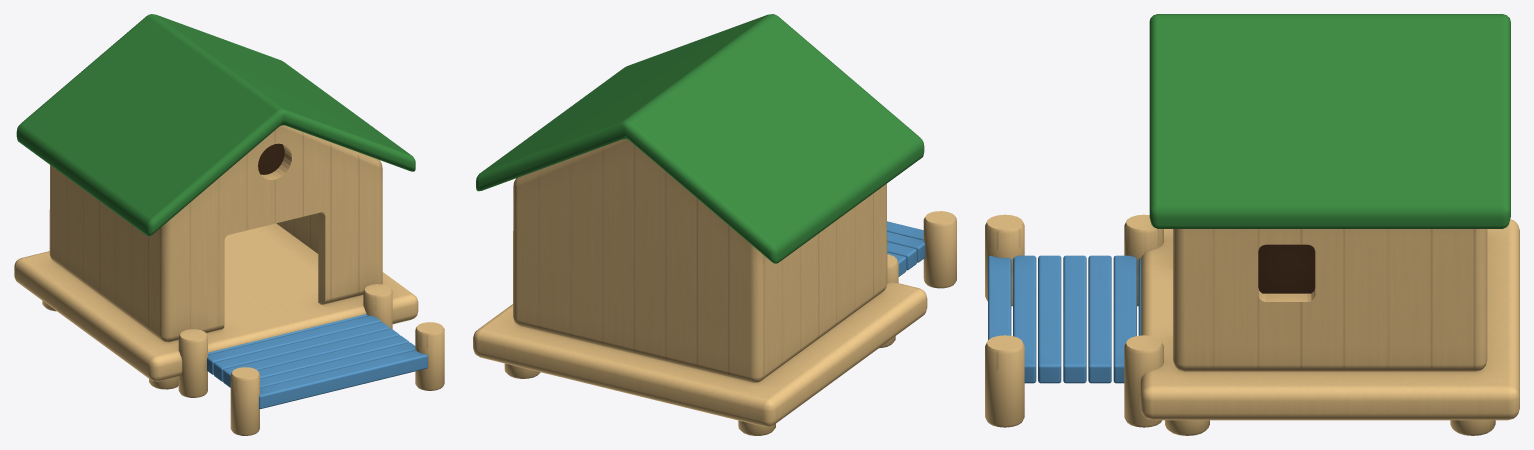
Rendered from boathouse.fbx.
3 renders of one model, left to right at view 1: azimuth 30°, elevation 25°; view 2: azimuth 150°, elevation 25°; view 3: azimuth 270°, elevation 25°, orthographic. The views are drawn at different scales.
Parts seen in each view (by area): view 1: boathouse; view 2: boathouse; view 3: boathouse.
Boxes of the visible parts, bbox=[...] form: boathouse: bbox=[14, 14, 444, 435]; boathouse: bbox=[473, 14, 956, 435]; boathouse: bbox=[985, 14, 1519, 435].
Bounding box in the file's own units: 2331 × 2130 × 3000.
1 material, 1 textured.
